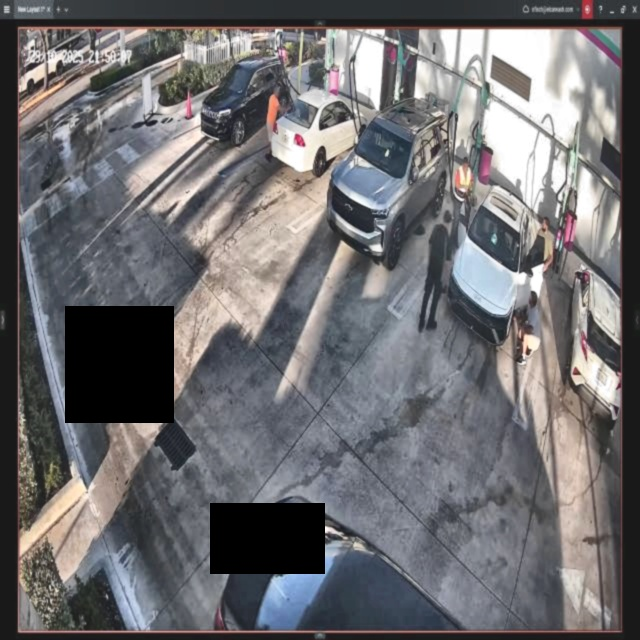Car: (327, 99, 452, 263), (447, 185, 531, 346), (273, 86, 364, 170)
